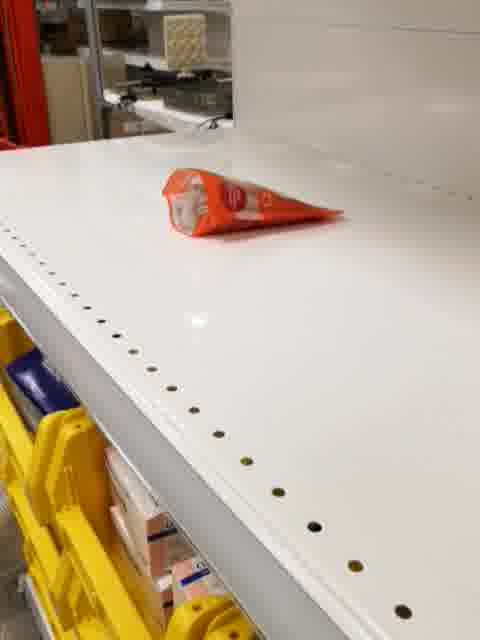whitechia: (159, 164, 347, 240)
